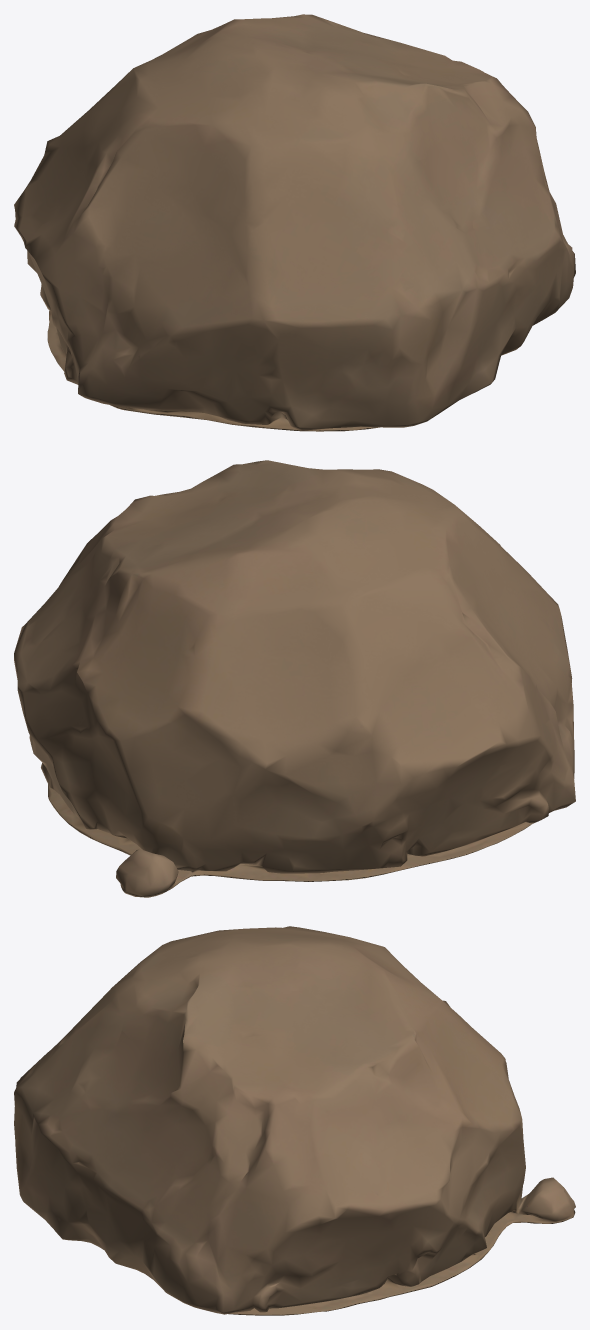
Rendered from rock+3d+model (1).glb.
3 views of the same model, one above another, from view 1: azimuth 30°, elevation 25°; view 2: azimuth 150°, elevation 25°; view 3: azimuth 270°, elevation 25° (orthographic). The views are drawn at different scales.
Parts seen in each view (by area): view 1: tripo_node_06e910f1-e5a8-42de-8f43-d36fd3820cd9; view 2: tripo_node_06e910f1-e5a8-42de-8f43-d36fd3820cd9; view 3: tripo_node_06e910f1-e5a8-42de-8f43-d36fd3820cd9.
Boxes of the visible parts, bbox=[...] form: tripo_node_06e910f1-e5a8-42de-8f43-d36fd3820cd9: bbox=[14, 14, 575, 431]; tripo_node_06e910f1-e5a8-42de-8f43-d36fd3820cd9: bbox=[14, 460, 575, 897]; tripo_node_06e910f1-e5a8-42de-8f43-d36fd3820cd9: bbox=[14, 926, 575, 1315].
Bounding box in the file's own units: 0.9349 × 0.503 × 1.
Materials: 1 (1 with a texture image).
